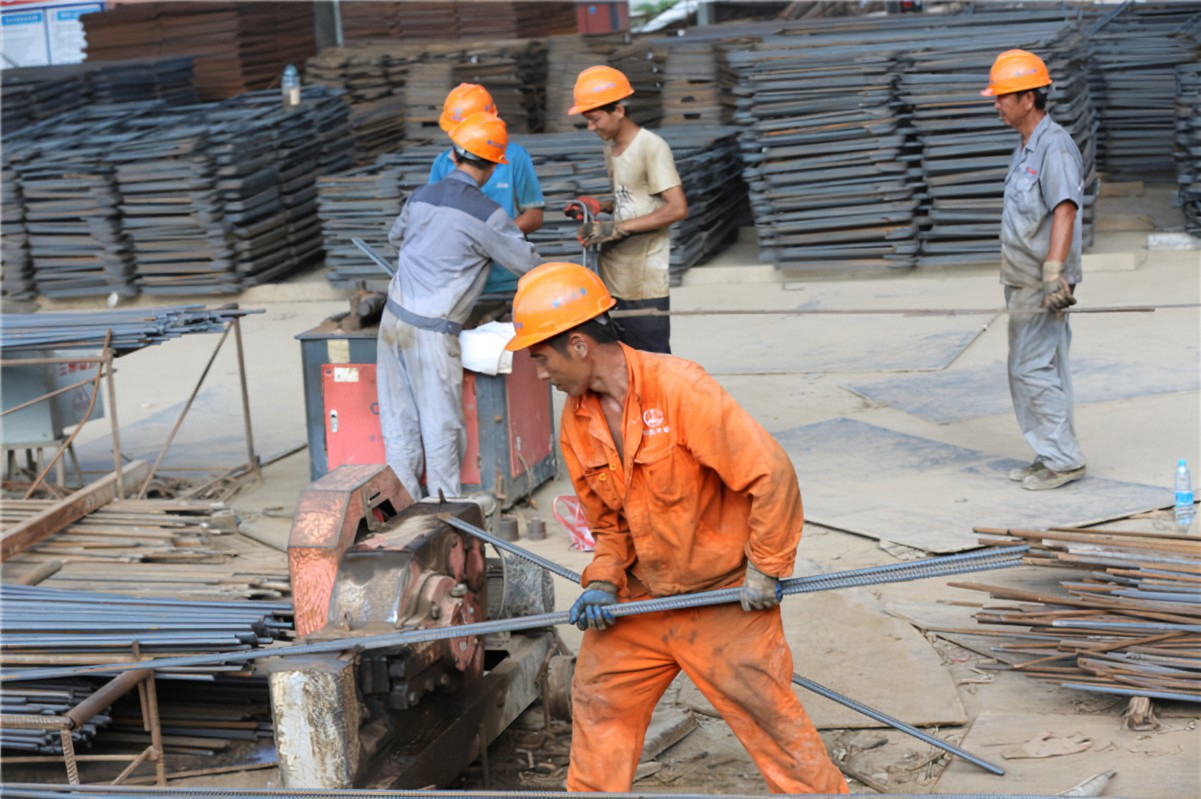safetyhat: (471, 256, 831, 782), (957, 33, 1117, 499), (335, 63, 522, 305), (538, 50, 693, 240)
